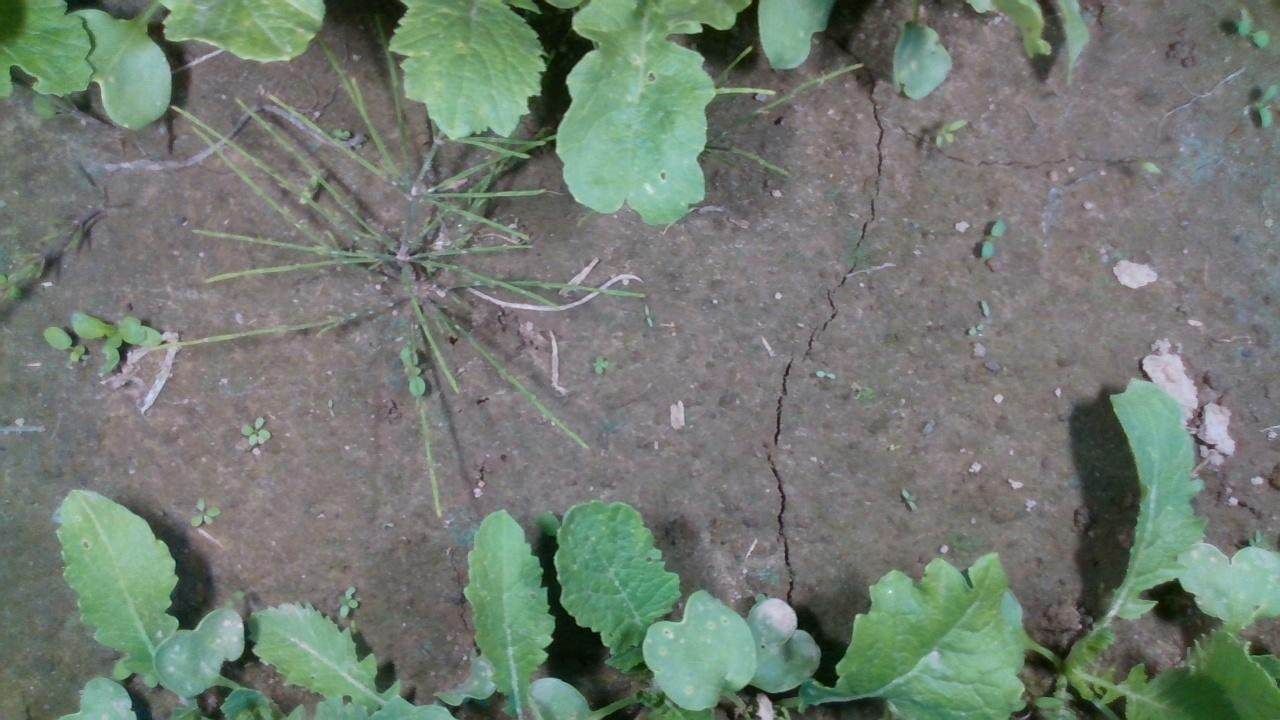weed: (238, 413, 272, 446), (979, 217, 1004, 259), (189, 495, 219, 526), (335, 584, 361, 618), (898, 486, 919, 512), (589, 352, 608, 375), (813, 368, 835, 380)
